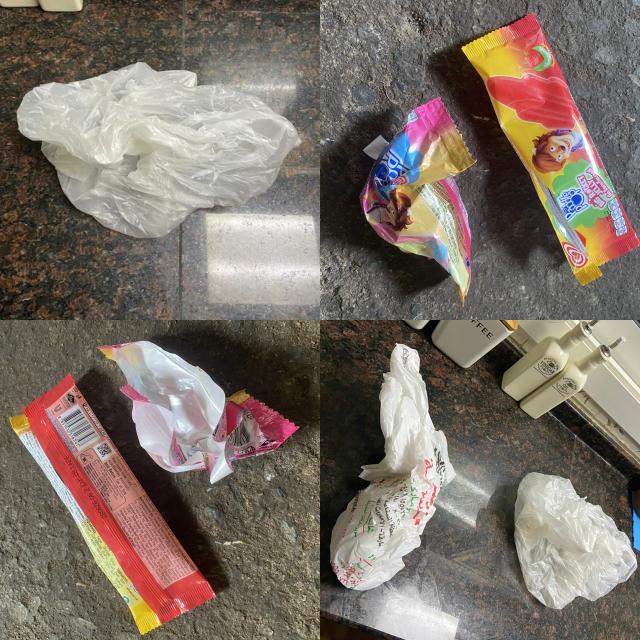Single-layer Plastic: (18, 62, 298, 238), (331, 344, 455, 589), (515, 472, 636, 609)
